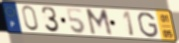0: (21, 5, 40, 33)
1: (123, 10, 136, 38)
3: (41, 6, 61, 34)
5: (65, 7, 88, 36)
G: (137, 12, 160, 39)
M: (84, 8, 115, 38)
